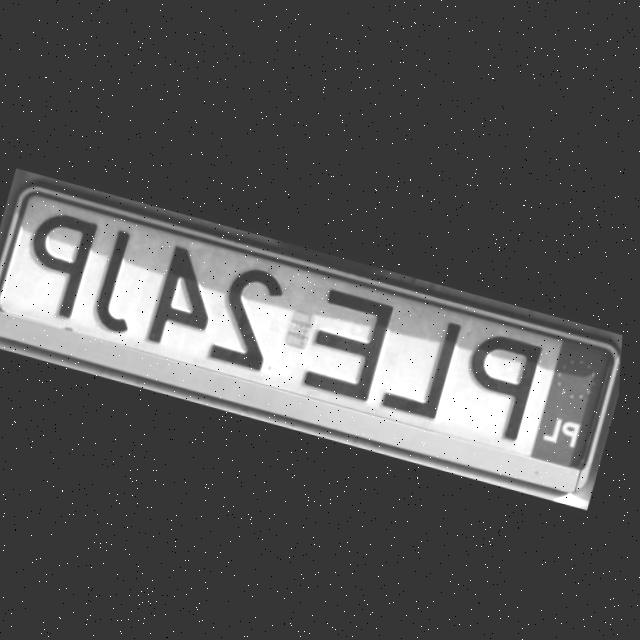license-plates: (0, 194, 613, 468)
